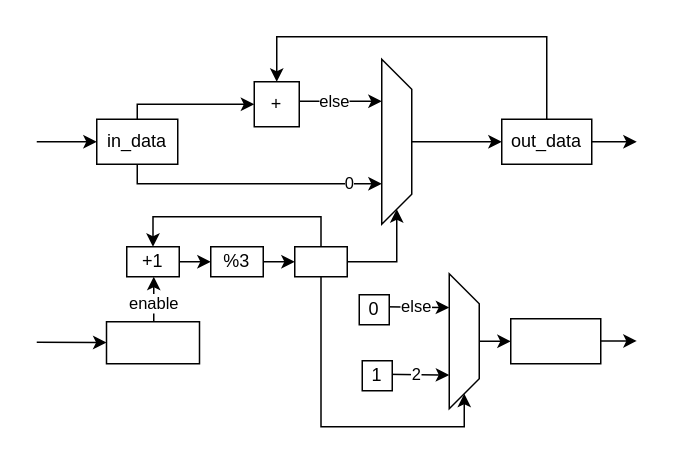
This 675x465 diagram has some shape labels left out. The shapes that lost their labels are listed below. From the top down, each one's centre as x and y in pixels, then its label:
At pixel 320 261: "cnt".
At pixel 152 342: "in_valid".
At pixel 555 340: "out_valid".
